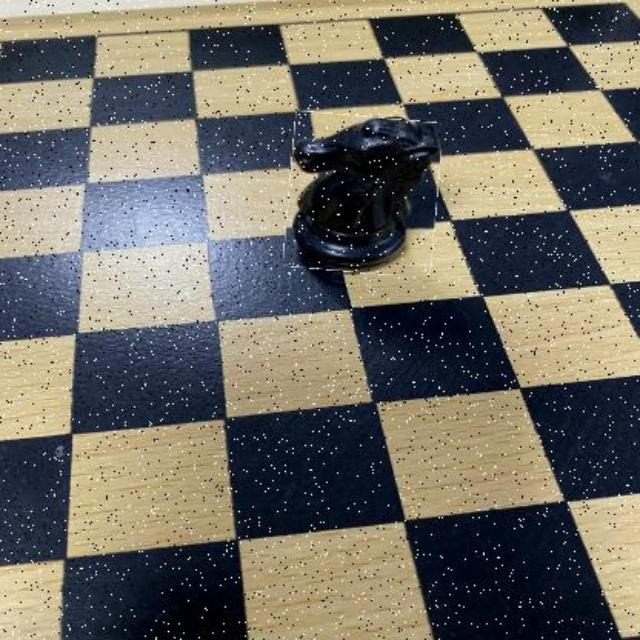black-knight: (286, 114, 439, 275)
